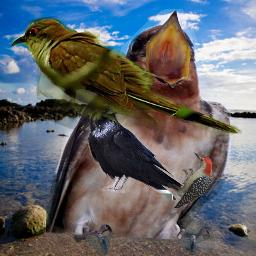Crow: (88, 104, 183, 201)
Cuckoo: (10, 16, 242, 136)
Swallow: (46, 9, 231, 255)
Woodpecker: (168, 152, 214, 208)
